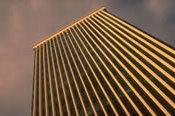building: (31, 6, 175, 116)
